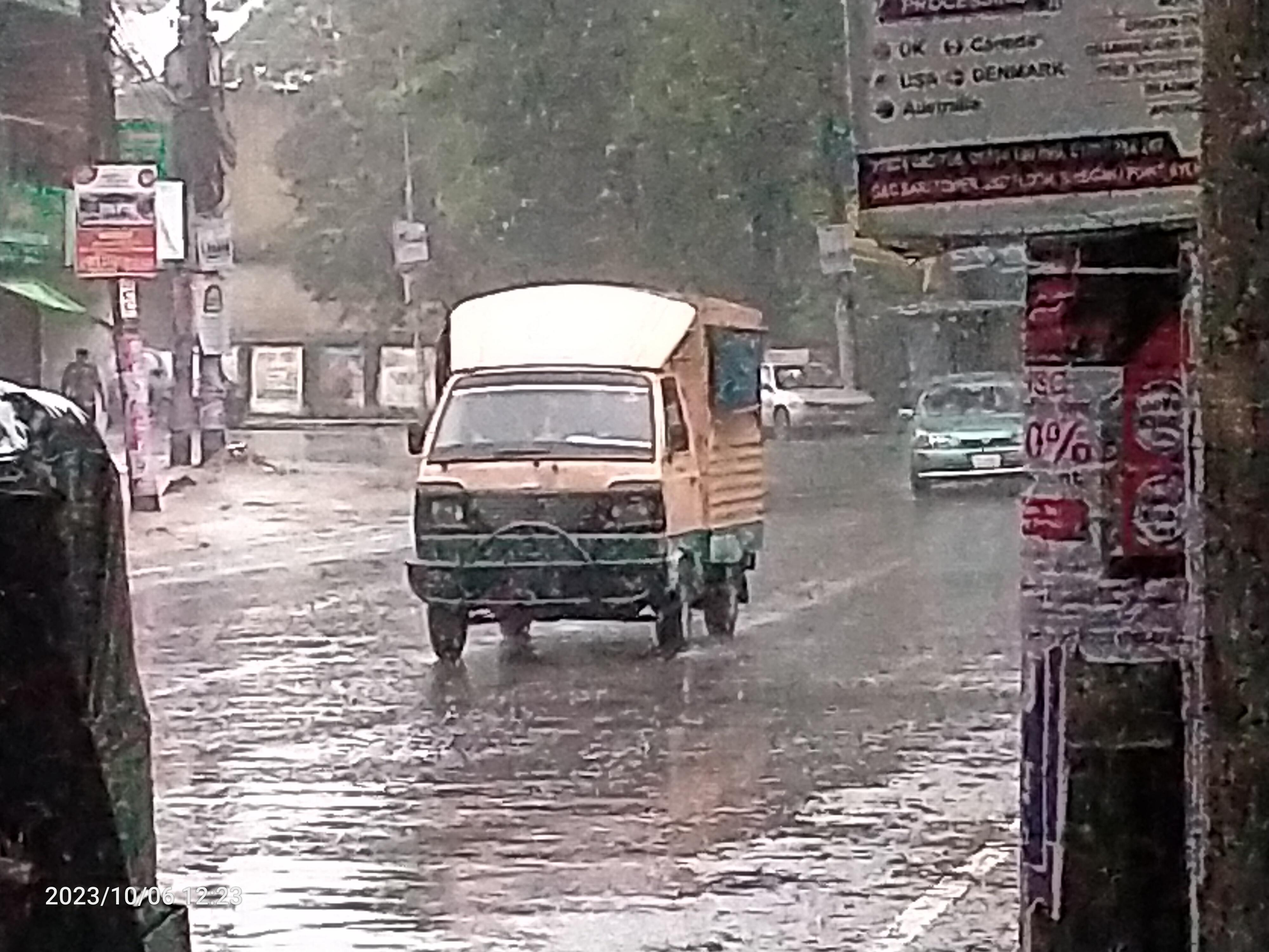Car: (379, 257, 772, 660), (904, 366, 1042, 536), (758, 337, 885, 444)
